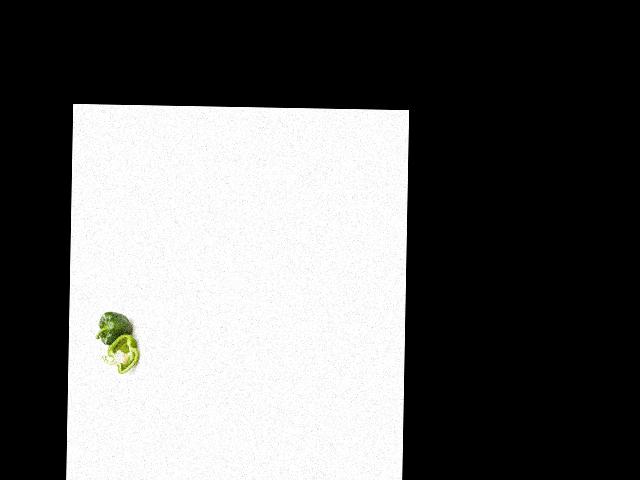bell_pepper: (100, 332, 138, 376)
